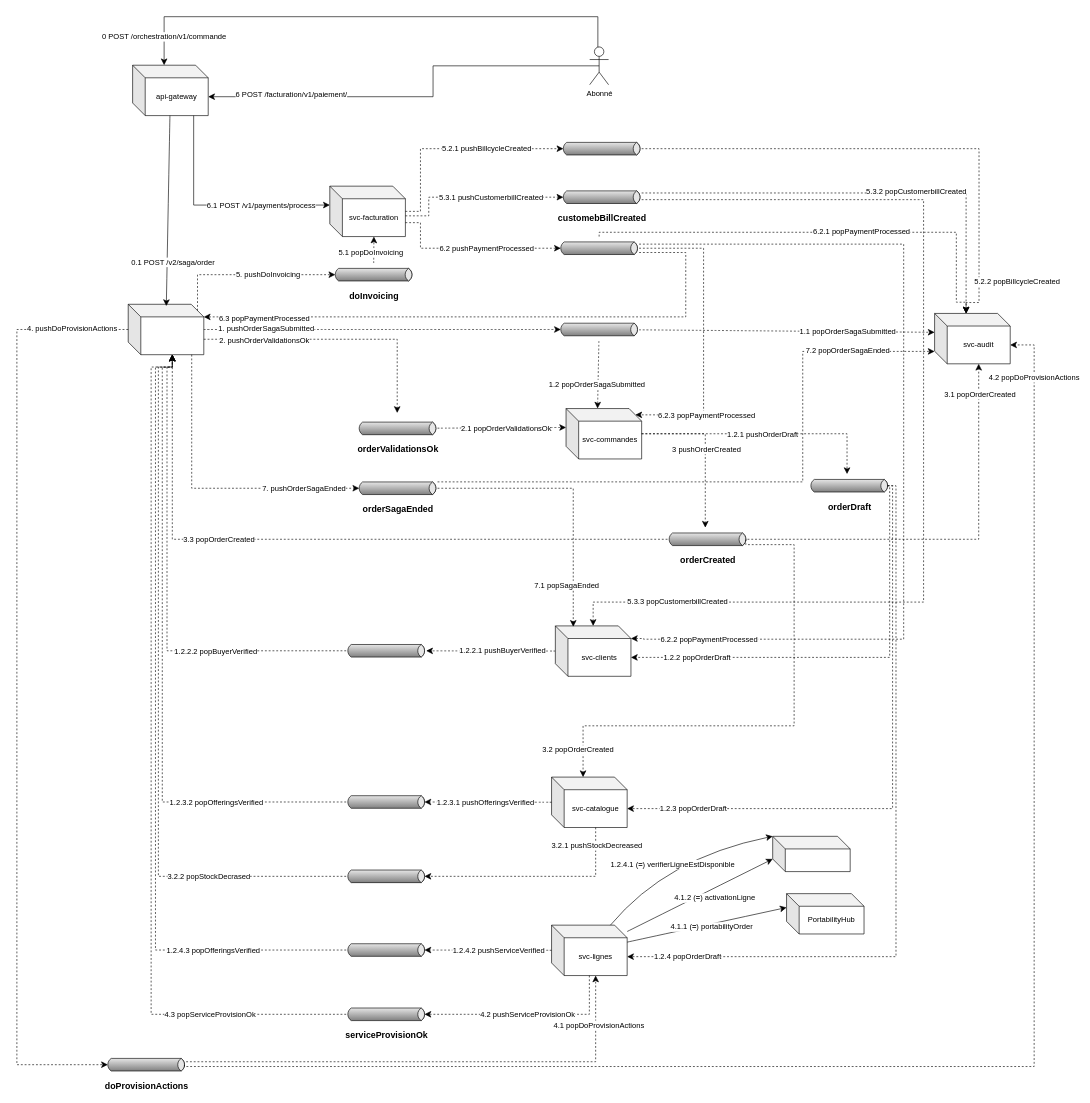
The diagram is 1090 pixels wide and 1103 high, and some of its shapes have lost their labels. Here are the shapes that lost their labels. From the top down, the centre of each, then its label:
pixel 601 148: billcycleCreated
pixel 598 248: paymentProcessed
pixel 166 329: svc-orchestration
pixel 598 329: orderSagaSubmitted
pixel 386 650: buyerVerified
pixel 386 802: offeringsVerified
pixel 811 854: HLR/HSS
pixel 386 876: stockDecreased
pixel 386 950: serviceVerified
